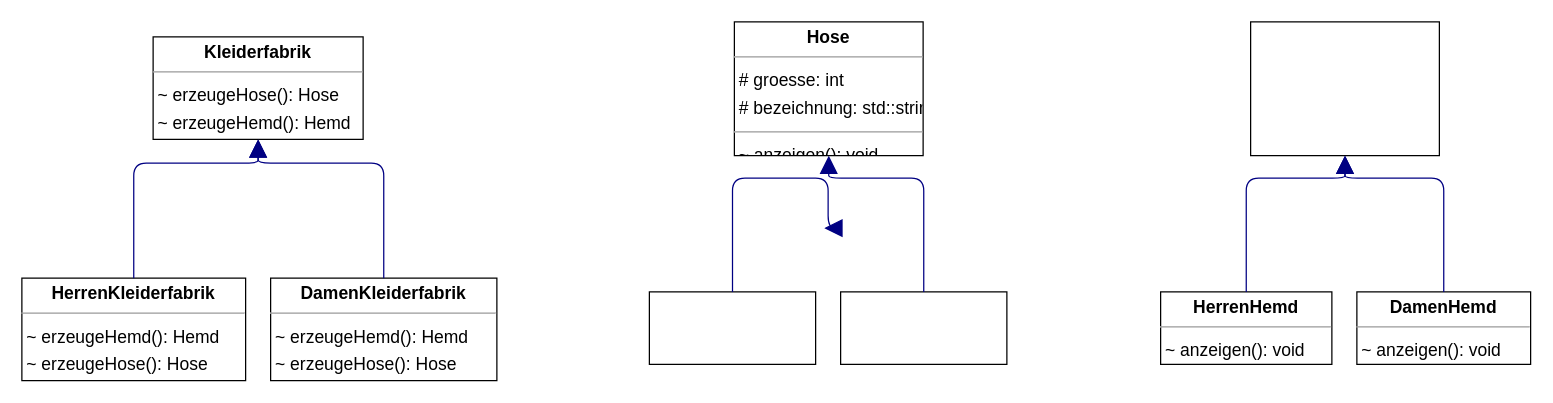
Image size: 1553x403. Some labels were removed from this diagram. The shapes that lost their labels are listed below. From the top down, each one's centre as x and y in pixels, then its label:
At point 1344,88: "Hemd # kragenweite: int # bezeichnung: std::string ~ anzeigen(): void".
At point 732,327: "HerrenHose ~ anzeigen(): void".
At point 923,327: "DamenHose ~ anzeigen(): void".
